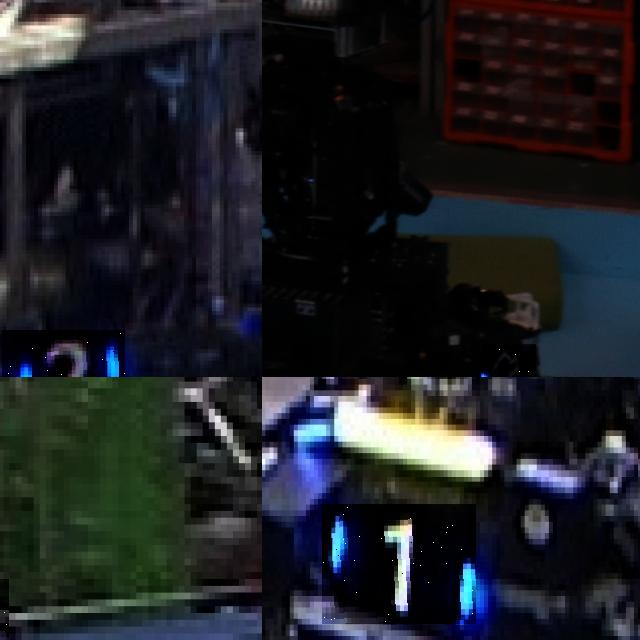B1: (322, 504, 476, 624)
B2: (2, 330, 124, 377)
Bs: (481, 344, 536, 377)
